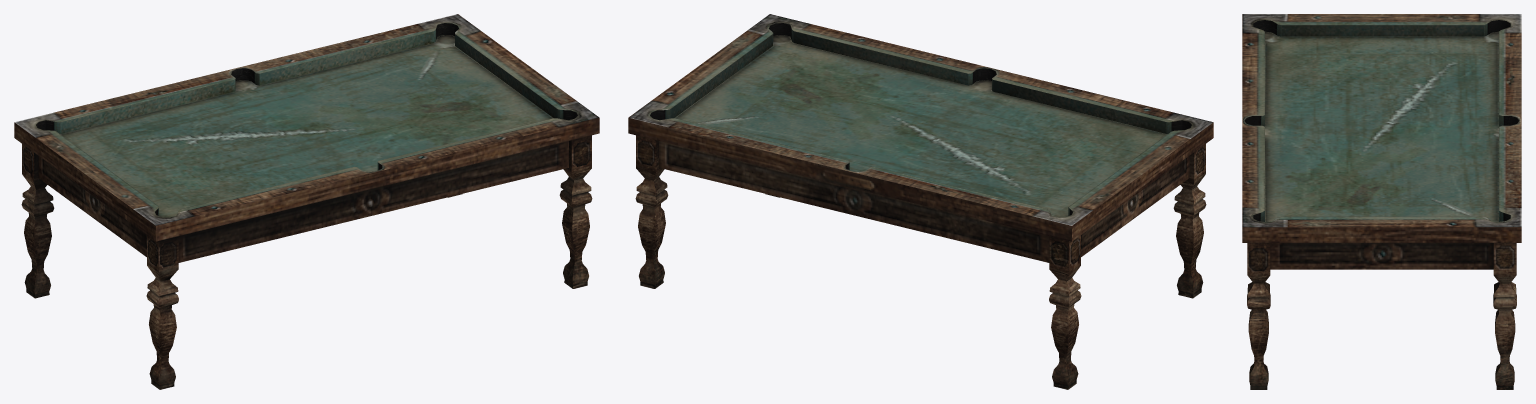
Rendered from M_Home_Garden_Table06.fbx.
3 views of the same model, side by side, from view 1: azimuth 30°, elevation 25°; view 2: azimuth 150°, elevation 25°; view 3: azimuth 270°, elevation 25° (orthographic).
Parts seen in each view (by area): view 1: M_Home_Garden_Table06; view 2: M_Home_Garden_Table06; view 3: M_Home_Garden_Table06.
Part boxes in pixels (left/top/right/bottom): M_Home_Garden_Table06: left=14, top=14, right=599, bottom=389; M_Home_Garden_Table06: left=628, top=14, right=1213, bottom=389; M_Home_Garden_Table06: left=1242, top=14, right=1521, bottom=389.
Size of the model in its own units: 278 by 101 by 154.
